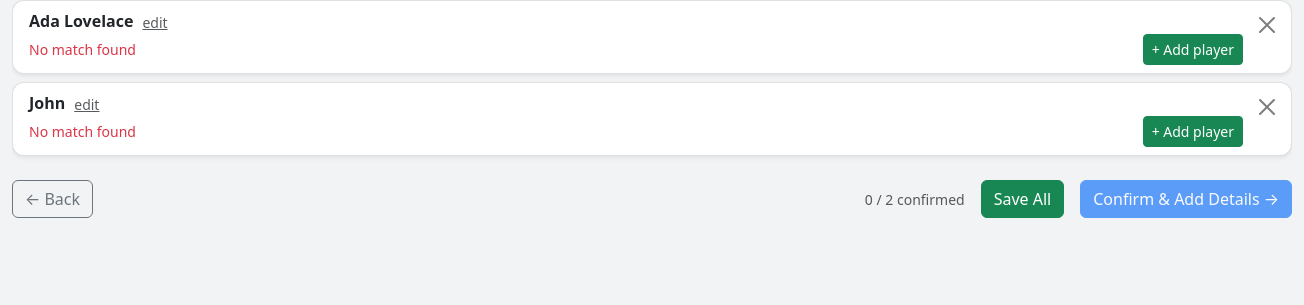
ResolveNamesStep › validates all unmatched names before Save All creates any players
Click the button "Save All". click: (1022, 199)
box: [981, 180, 1064, 218]
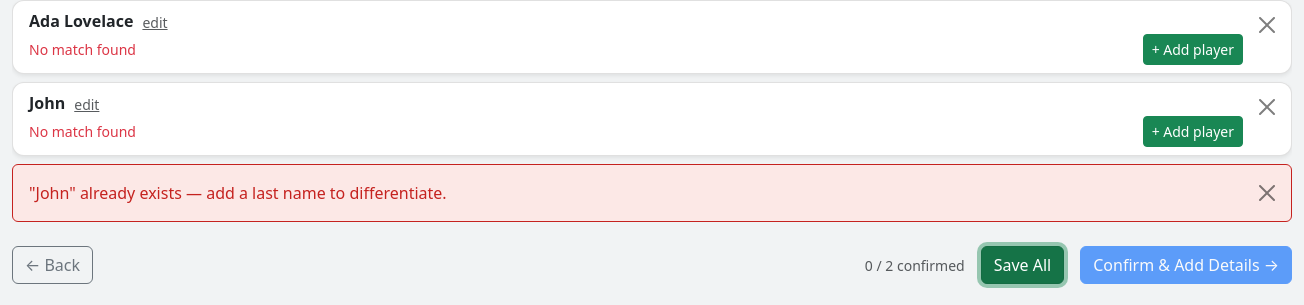
Expected: the text "\"John\" already exists — add a last name to differentiate." is shown, [12, 164, 1292, 222]
